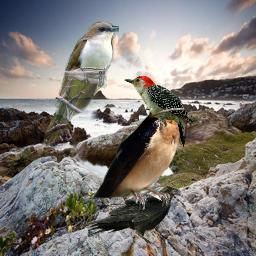Crow: (84, 185, 183, 246)
Cuckoo: (41, 20, 119, 146)
Swallow: (92, 92, 183, 210)
Woodpecker: (124, 75, 193, 148)
